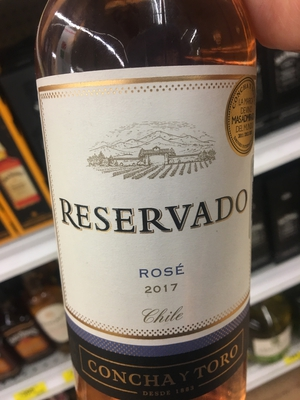reservado rose: (35, 10, 272, 400)
